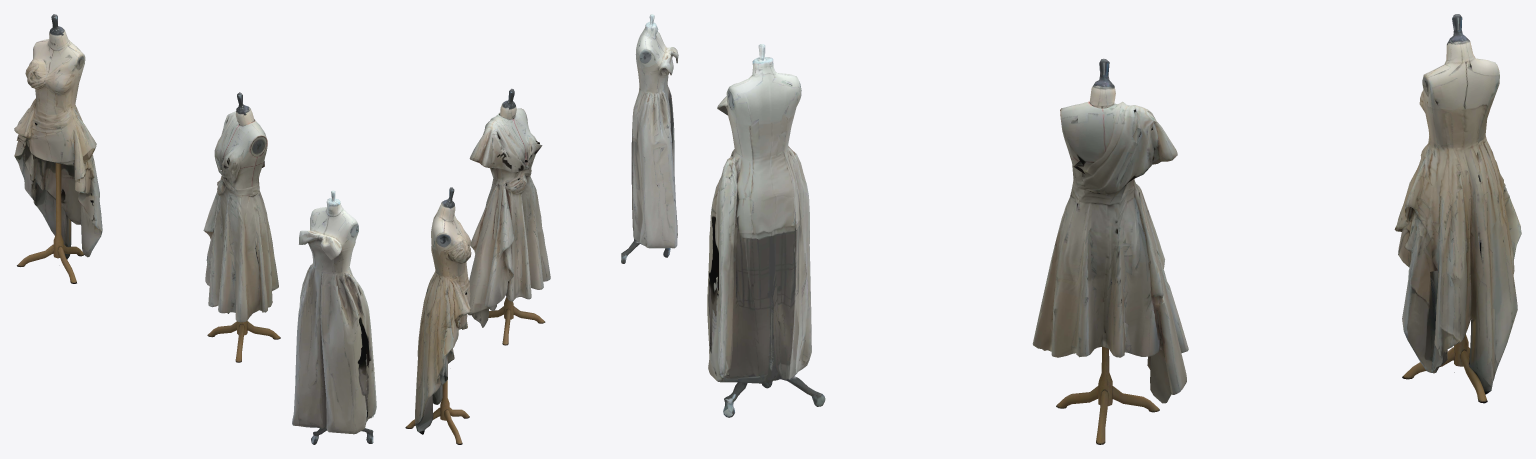
Rendered from Dress_LOD2.glb.
3 views of the same model, side by side, from view 1: azimuth 30°, elevation 25°; view 2: azimuth 150°, elevation 25°; view 3: azimuth 270°, elevation 25° (orthographic). The views are drawn at different scales.
Visible parts, largest first — view 1: Dress_LOD2; view 2: Dress_LOD2; view 3: Dress_LOD2.
Boxes of the visible parts, left/top/right/bottom form: Dress_LOD2: left=14, top=14, right=376, bottom=444; Dress_LOD2: left=405, top=14, right=678, bottom=444; Dress_LOD2: left=707, top=14, right=1521, bottom=444.
Bounding box in the file's own units: 1.05 × 2.01 × 4.05.
1 material, 1 textured.
